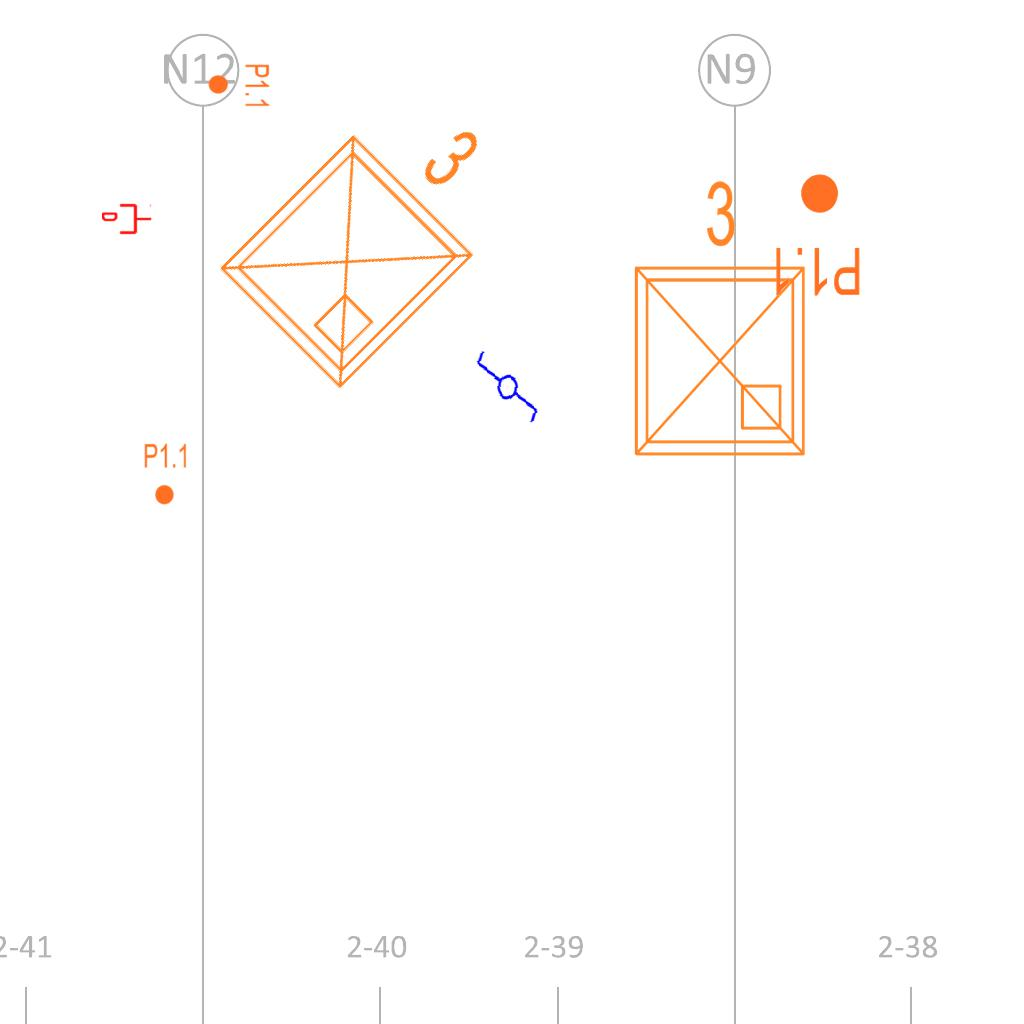Datenanschluss_einfach: (102, 202, 152, 236)
Downlight_LED_Einbauleuchten_Flur: (770, 171, 863, 299), (143, 442, 189, 506), (207, 63, 271, 109)
Einbaudownlights_LED_Konferenzraeume: (193, 50, 553, 410), (612, 170, 820, 470)
Wechselschalter: (465, 347, 547, 435)
